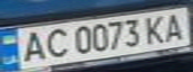0: (69, 22, 93, 55), (90, 20, 112, 52)
3: (121, 16, 145, 48)
7: (106, 18, 127, 51)
A: (15, 28, 48, 64), (160, 10, 190, 43)
C: (39, 26, 72, 60)
K: (139, 12, 172, 45)
